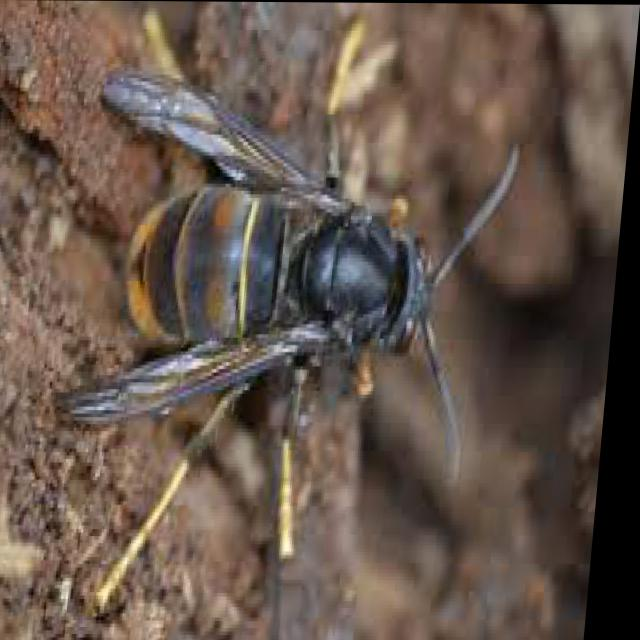Vespa Velutina: (41, 0, 546, 623)
